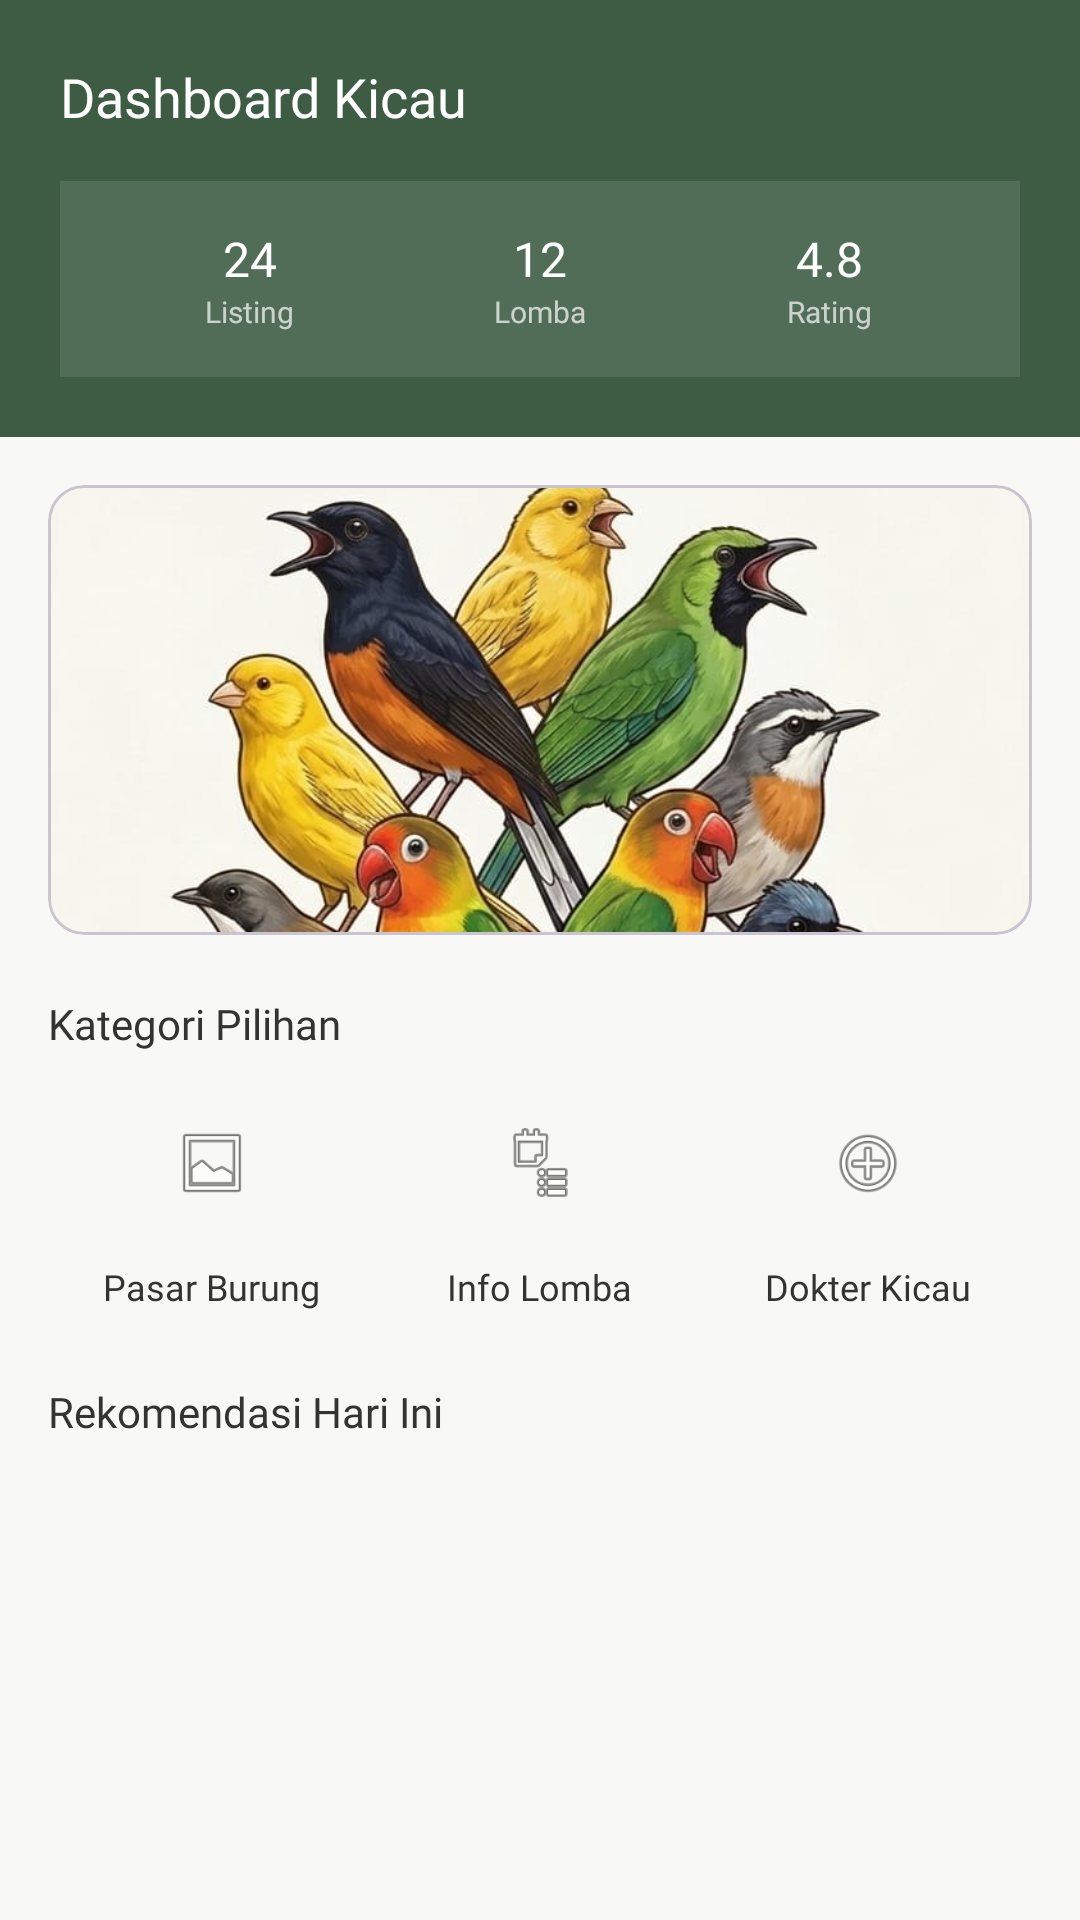

Screen size 1080px×1920px. Icon name, then its center in pixels as [x,y]:
add: [868,1163]
agenda: [540,1162]
gallery: [212,1163]
